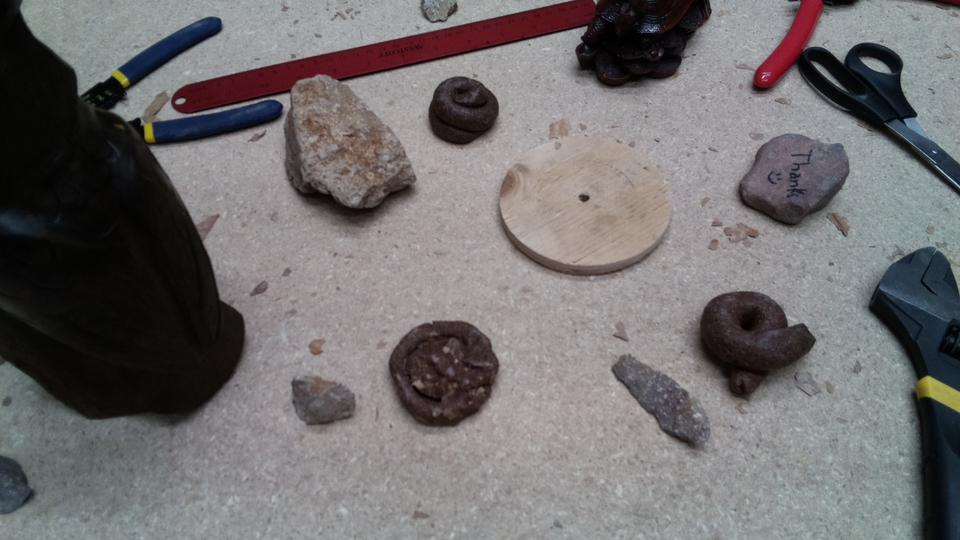poop: (381, 317, 503, 430), (698, 286, 819, 399), (422, 74, 502, 147)
